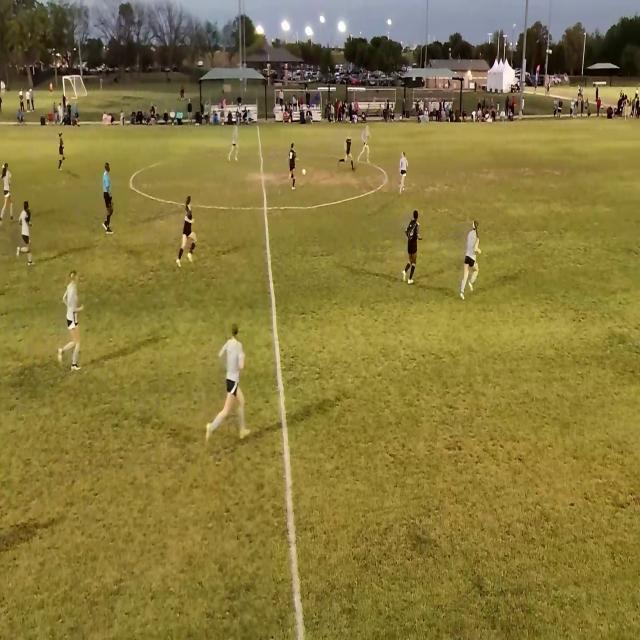ball: (302, 166, 307, 177)
team1: (181, 194, 200, 268), (404, 210, 422, 288), (339, 131, 354, 174), (287, 142, 299, 192), (59, 129, 66, 169)
team2: (210, 326, 248, 440), (60, 273, 86, 368), (462, 222, 481, 296), (18, 201, 34, 264), (2, 162, 14, 220), (362, 122, 372, 164), (230, 121, 240, 162), (400, 151, 409, 193)
